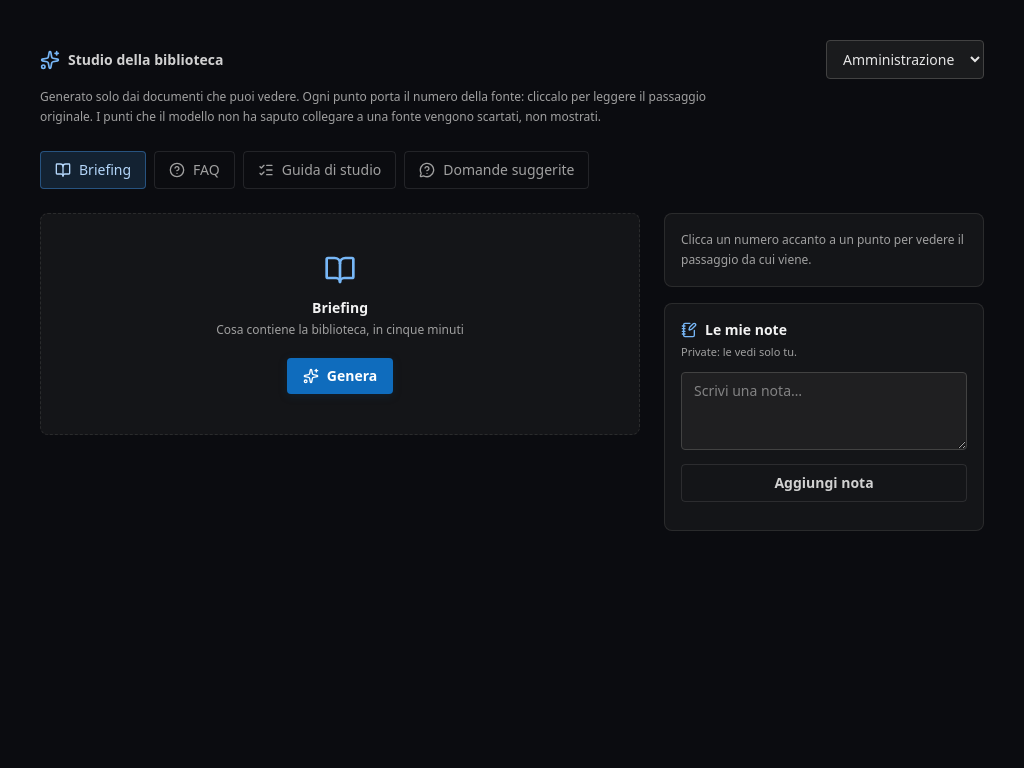
it: StudioTab › generates a briefing and shows the cited passage on demand
This screenshot has width=1024, height=768.
Click the button "Genera": (340, 376) [287, 358, 393, 394]
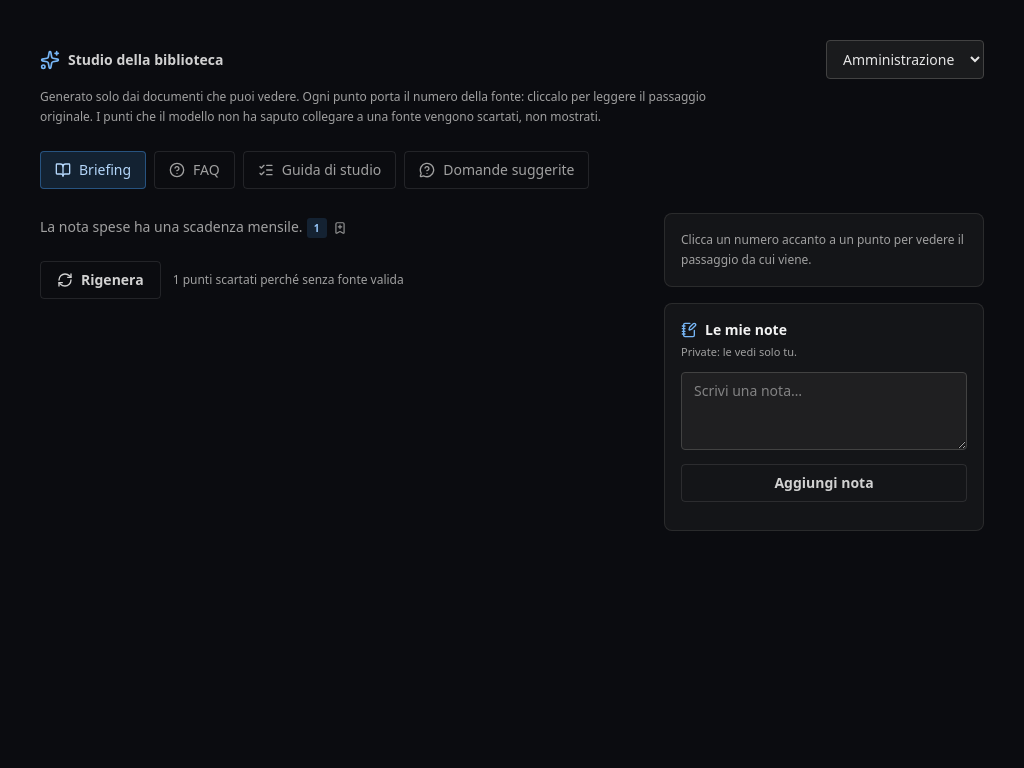
Result: the text "La nota spese ha una scadenza mensile." is shown at [40, 217, 303, 236]
Result: the text "1 punti scartati perché senza fonte valida" is shown at [173, 272, 404, 288]
Click the button "1": (317, 228) [307, 218, 327, 238]
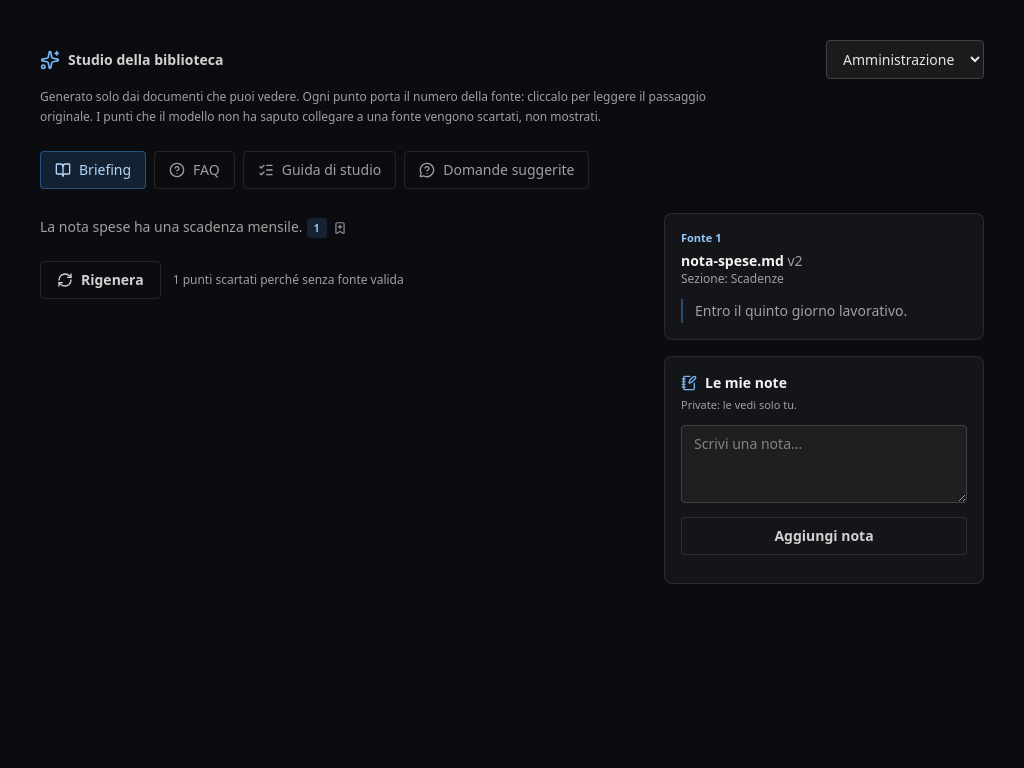
Result: the text "Entro il quinto giorno lavorativo." is shown at [681, 298, 967, 322]
Result: the text "Sezione: Scadenze" is shown at [681, 270, 784, 286]
